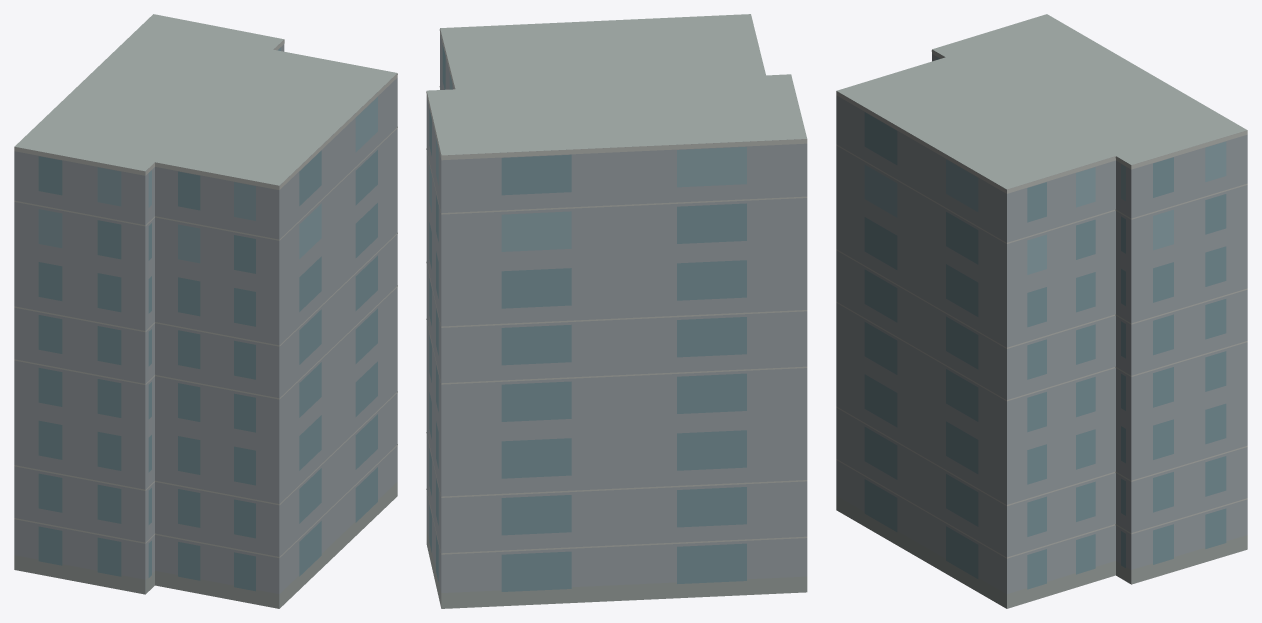
File: survey-upis-33027076.glb
3 views of the same model, side by side, from view 1: azimuth 30°, elevation 25°; view 2: azimuth 150°, elevation 25°; view 3: azimuth 270°, elevation 25° (orthographic). The views are drawn at different scales.
Parts seen in each view (by area): view 1: survey-upis-33027076.tmp; view 2: survey-upis-33027076.tmp; view 3: survey-upis-33027076.tmp.
Part boxes in pixels (left/top/right/bottom): survey-upis-33027076.tmp: left=14, top=14, right=397, bottom=608; survey-upis-33027076.tmp: left=426, top=14, right=807, bottom=608; survey-upis-33027076.tmp: left=836, top=14, right=1247, bottom=608.
Size of the model in its own units: 20.66 by 23 by 20.46.
